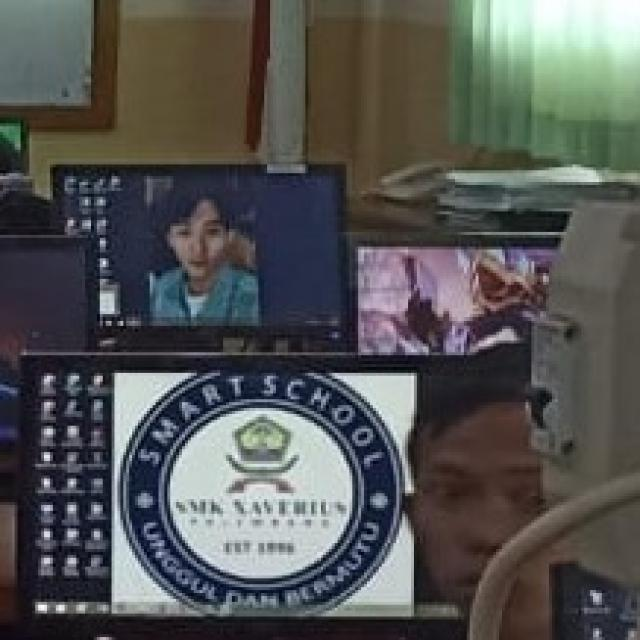onscreen: (24, 356, 414, 616), (55, 169, 341, 327), (359, 246, 555, 354), (0, 236, 89, 371)
